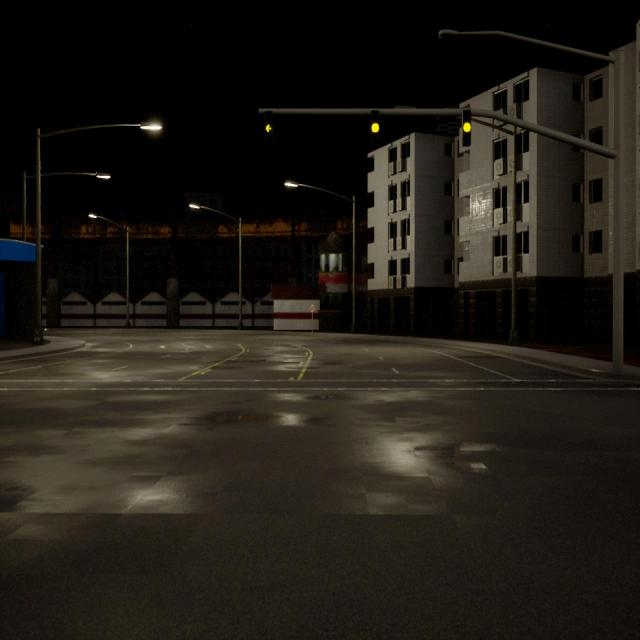Traffic_Signs: (310, 304, 315, 312)
traffic_light: (370, 110, 380, 146), (462, 110, 472, 146), (264, 111, 274, 144)
